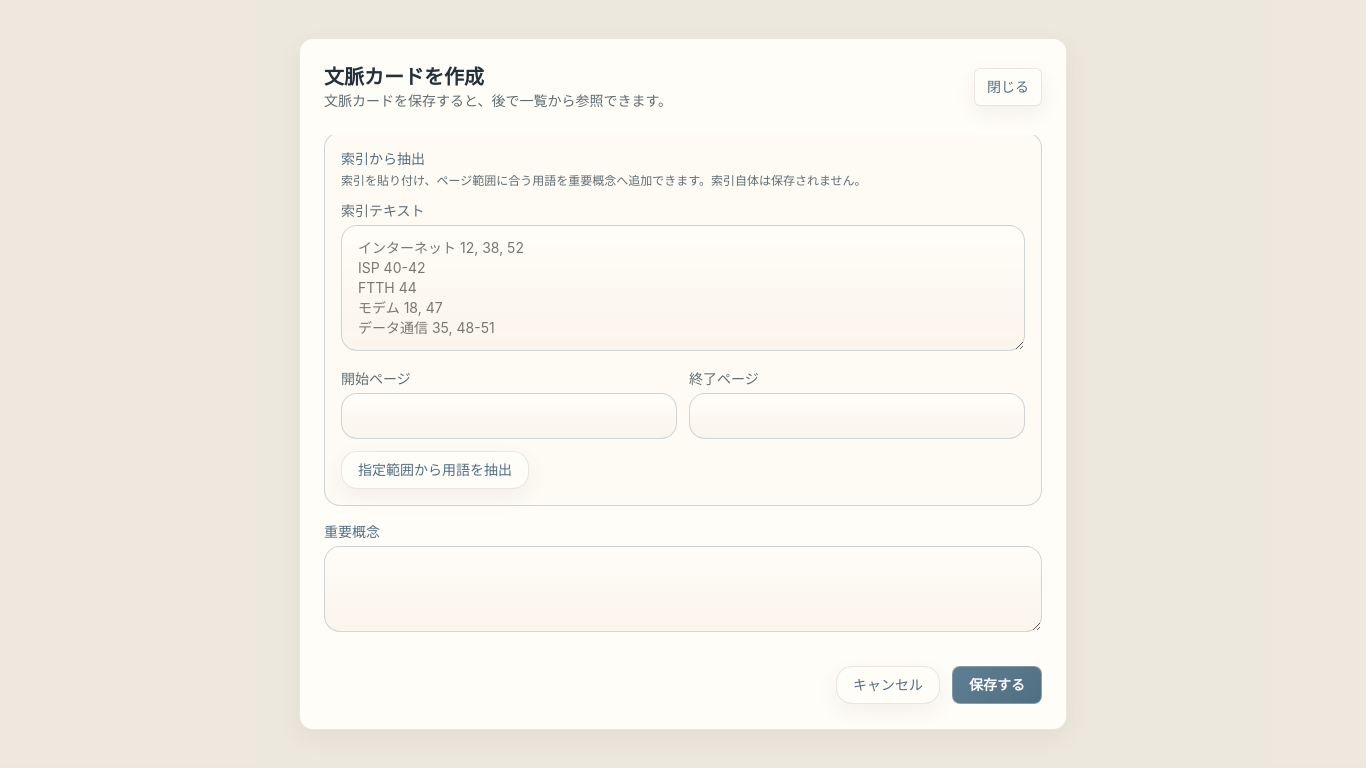
Test: ContextCardFormModal index extraction › 不正なページ範囲はエラーになり、重要概念を変えない
The width and height of the screenshot is (1366, 768).
(page scrolled)
In the text box labelled "重要概念": (683, 589) x1=324 y1=546 x2=1042 y2=632, type "既存"
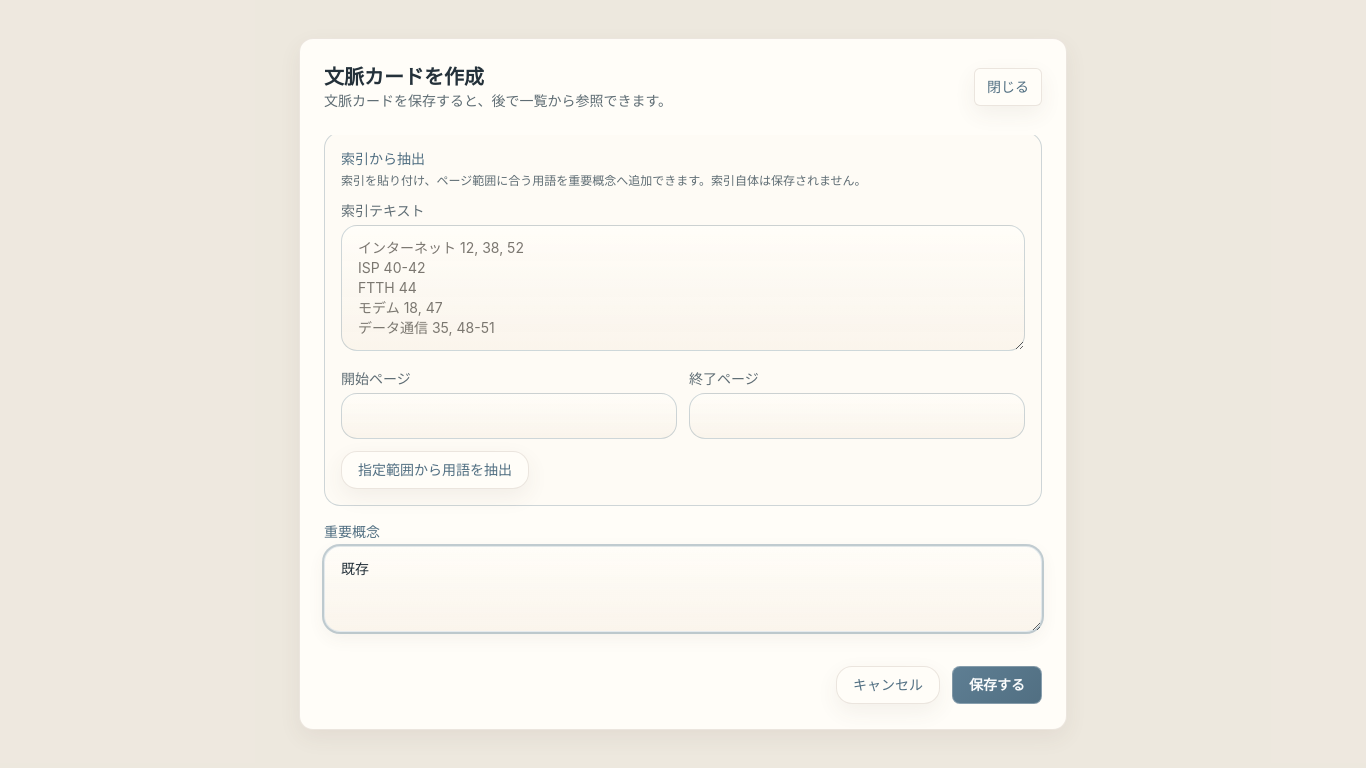
Click the text box labelled "索引テキスト": (683, 288) x1=341 y1=225 x2=1025 y2=351
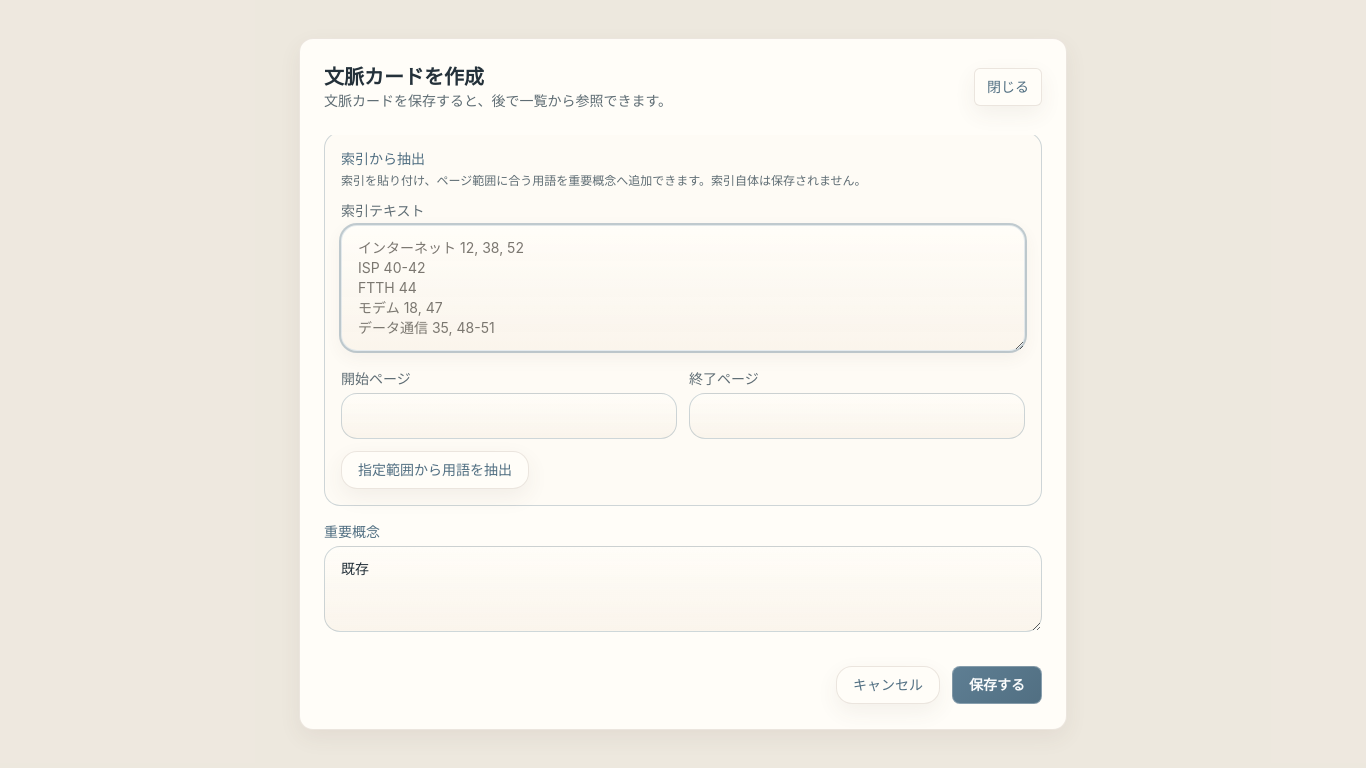
Type keys "機械学習 42"
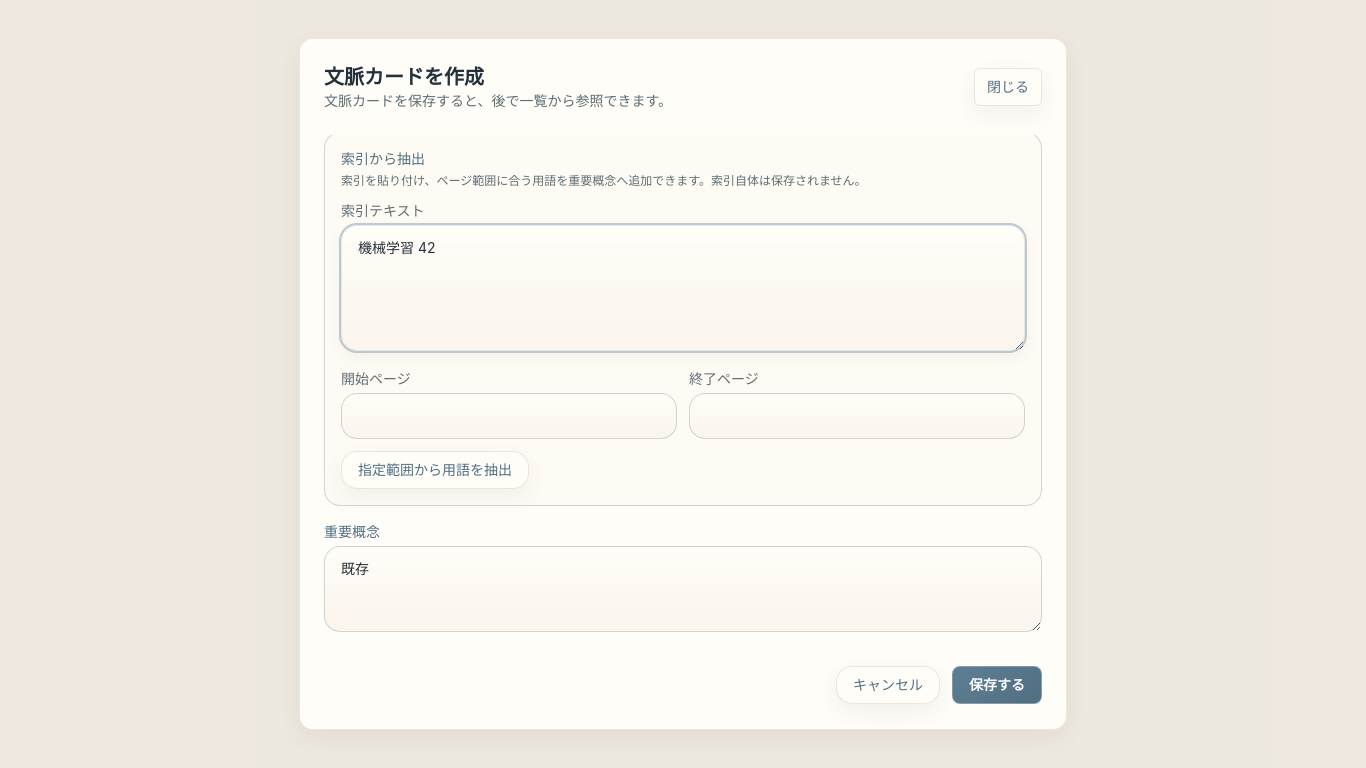
In the field labelled "開始ページ": (509, 416) x1=341 y1=393 x2=677 y2=439, type "70"
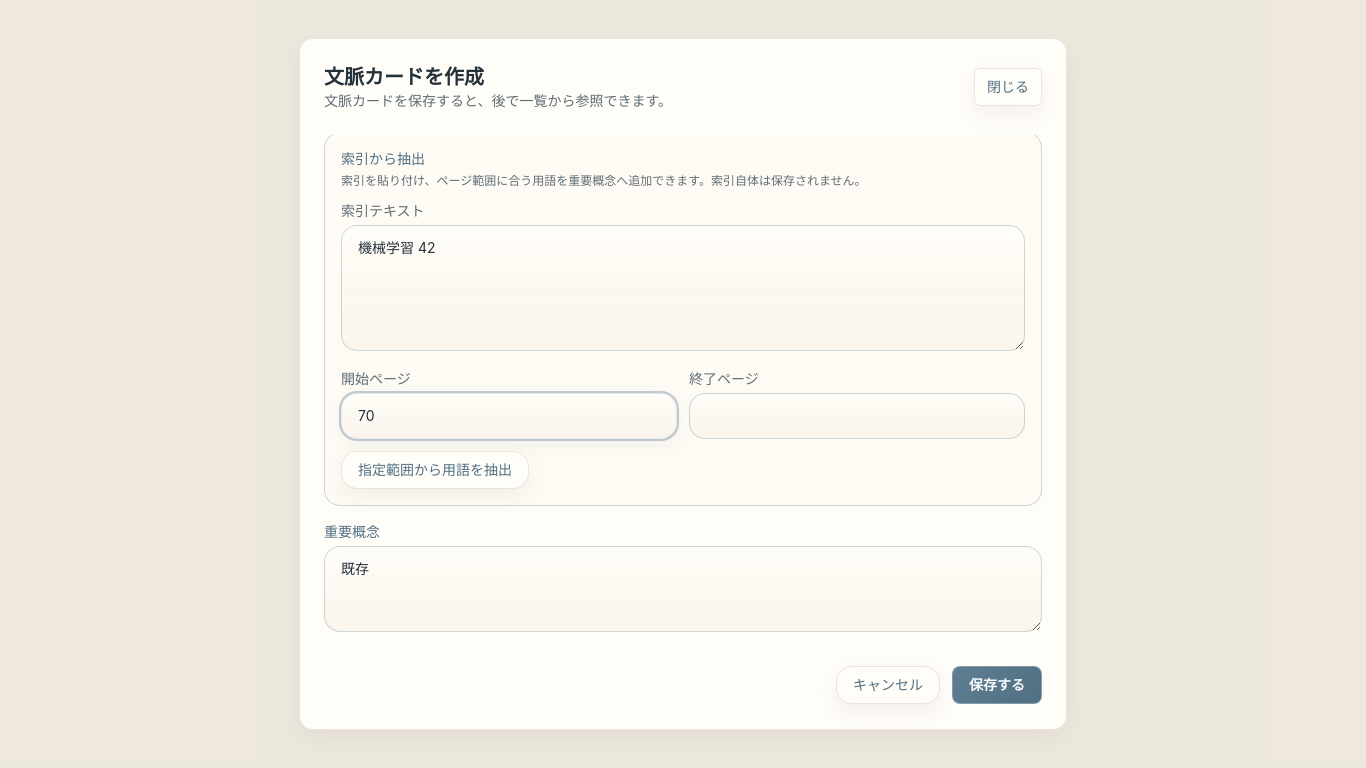
In the field labelled "終了ページ": (857, 416) x1=689 y1=393 x2=1025 y2=439, type "36"
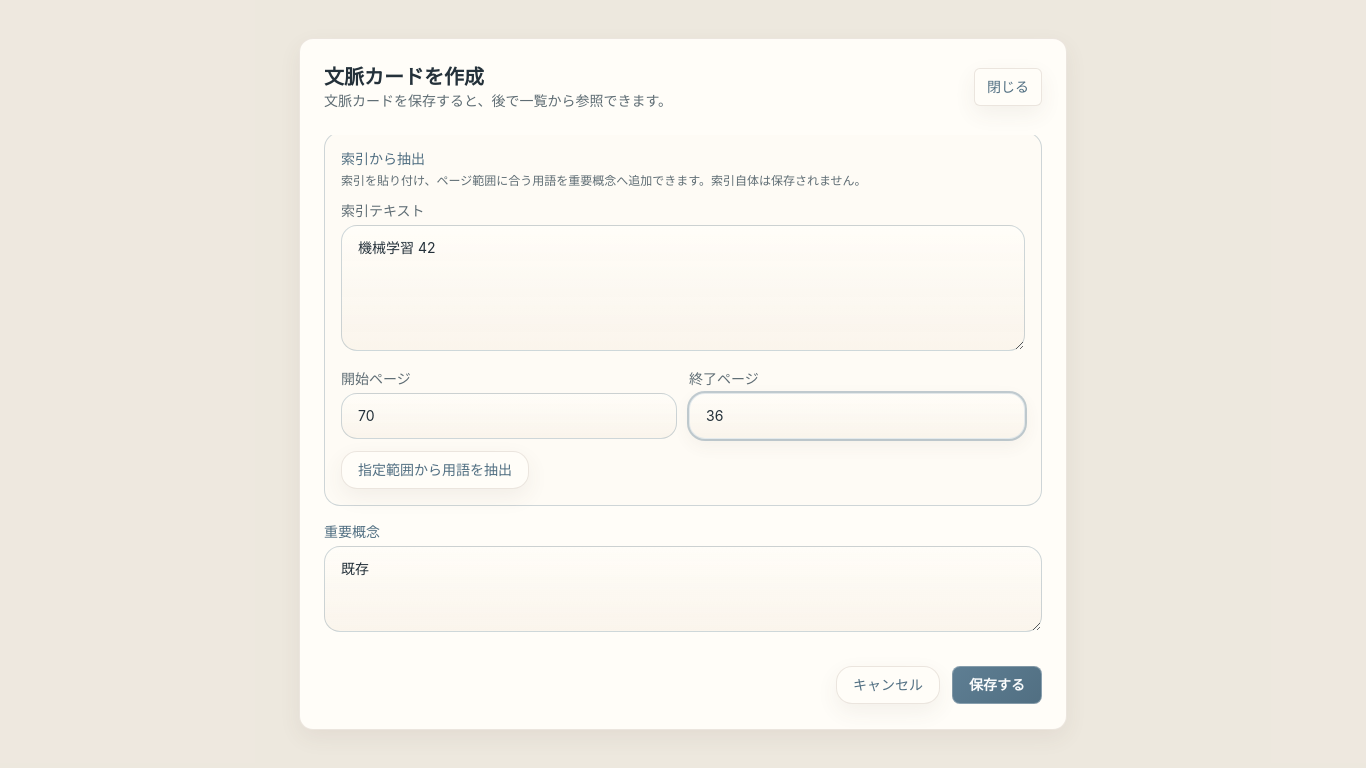
Click the button "指定範囲から用語を抽出": (435, 470) x1=341 y1=451 x2=529 y2=489
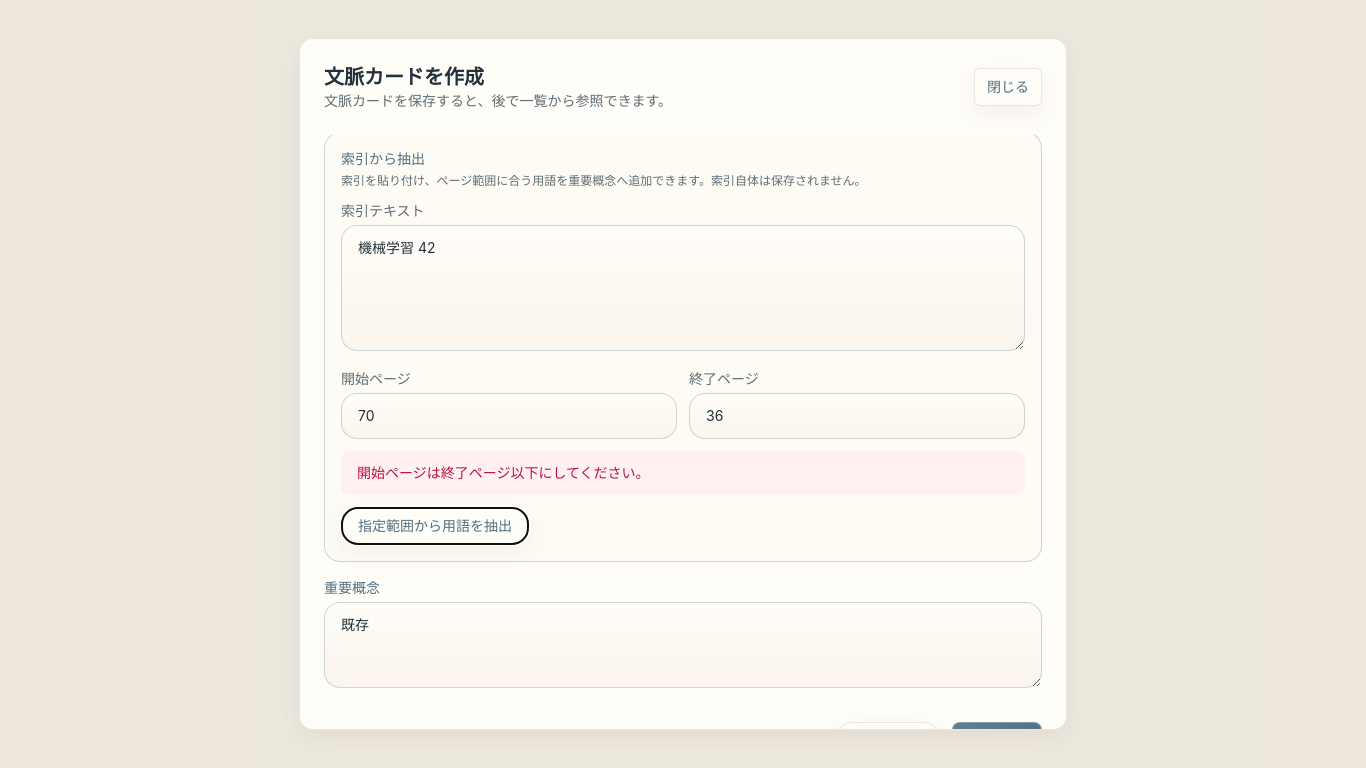
Now the text "開始ページは終了ページ以下にしてください。" is shown, box x1=341 y1=451 x2=1025 y2=495
